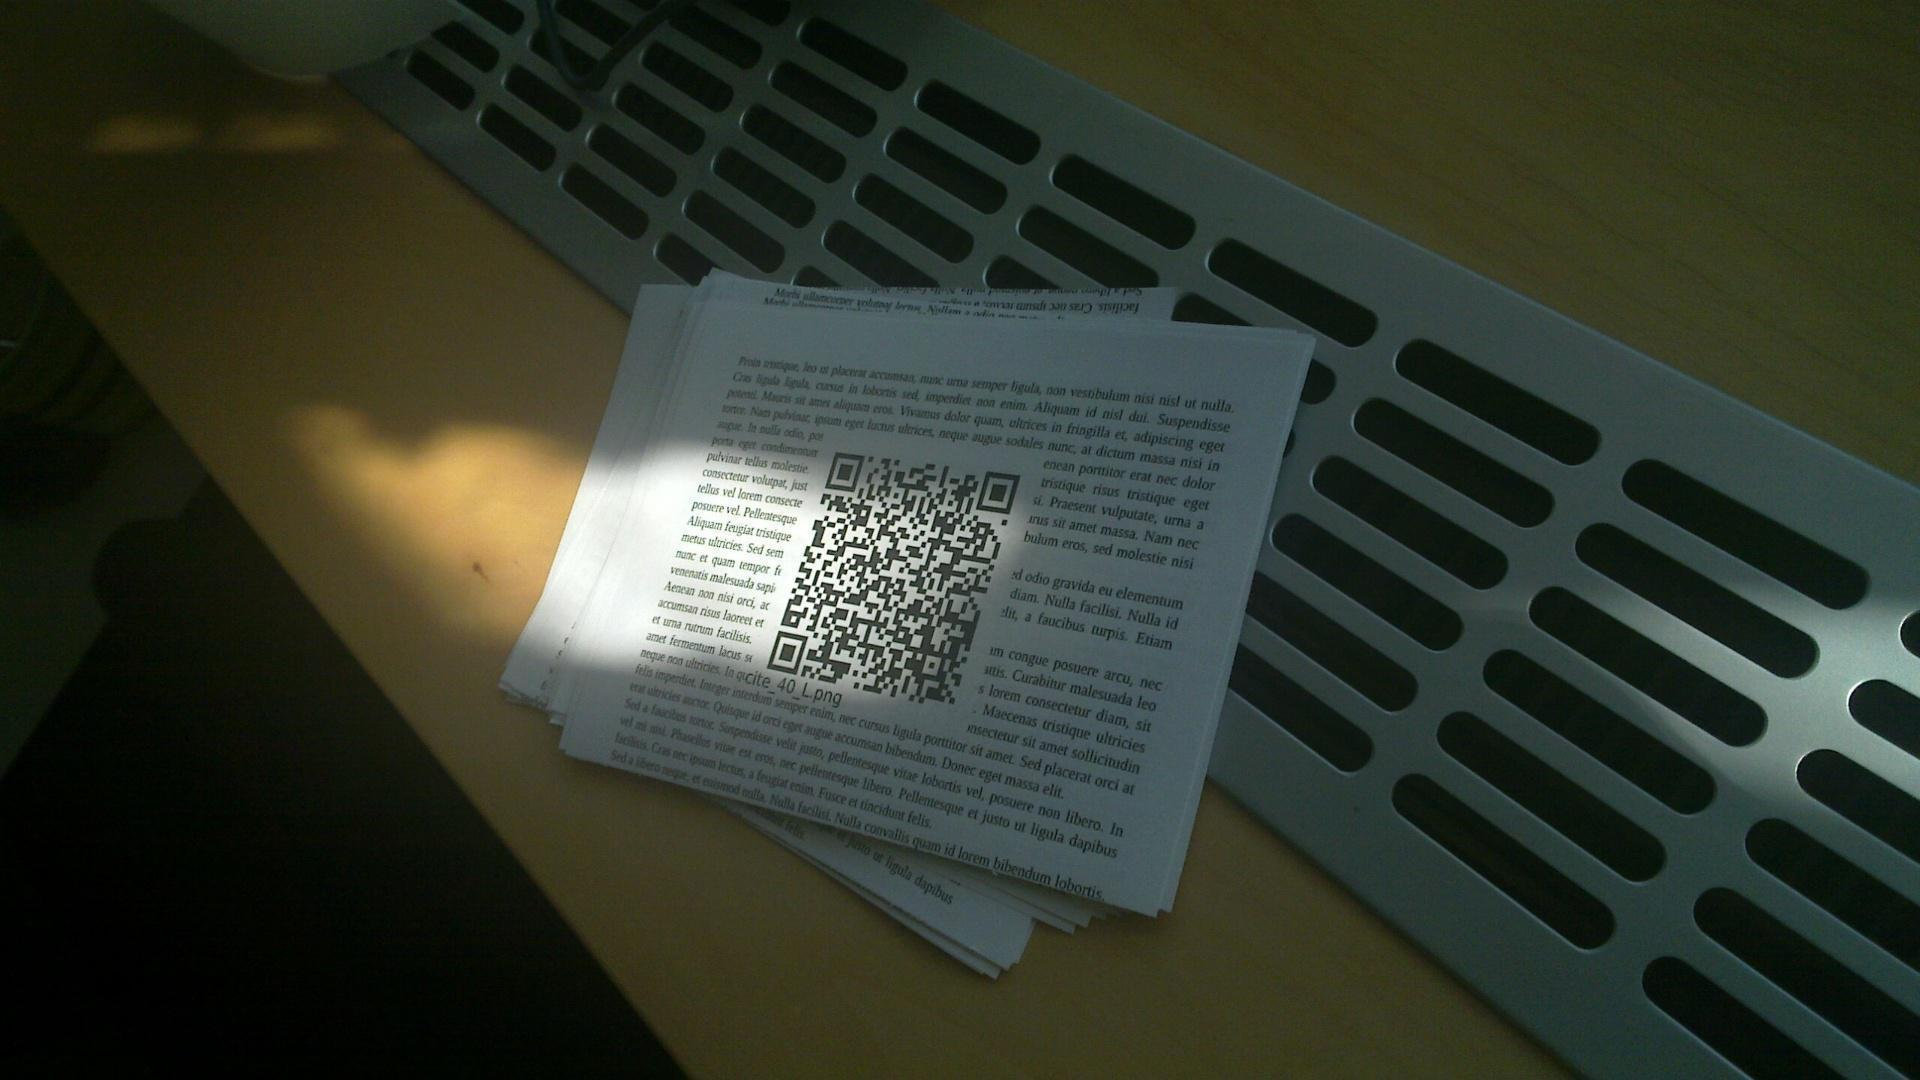qr_code: (767, 452, 1021, 709)
